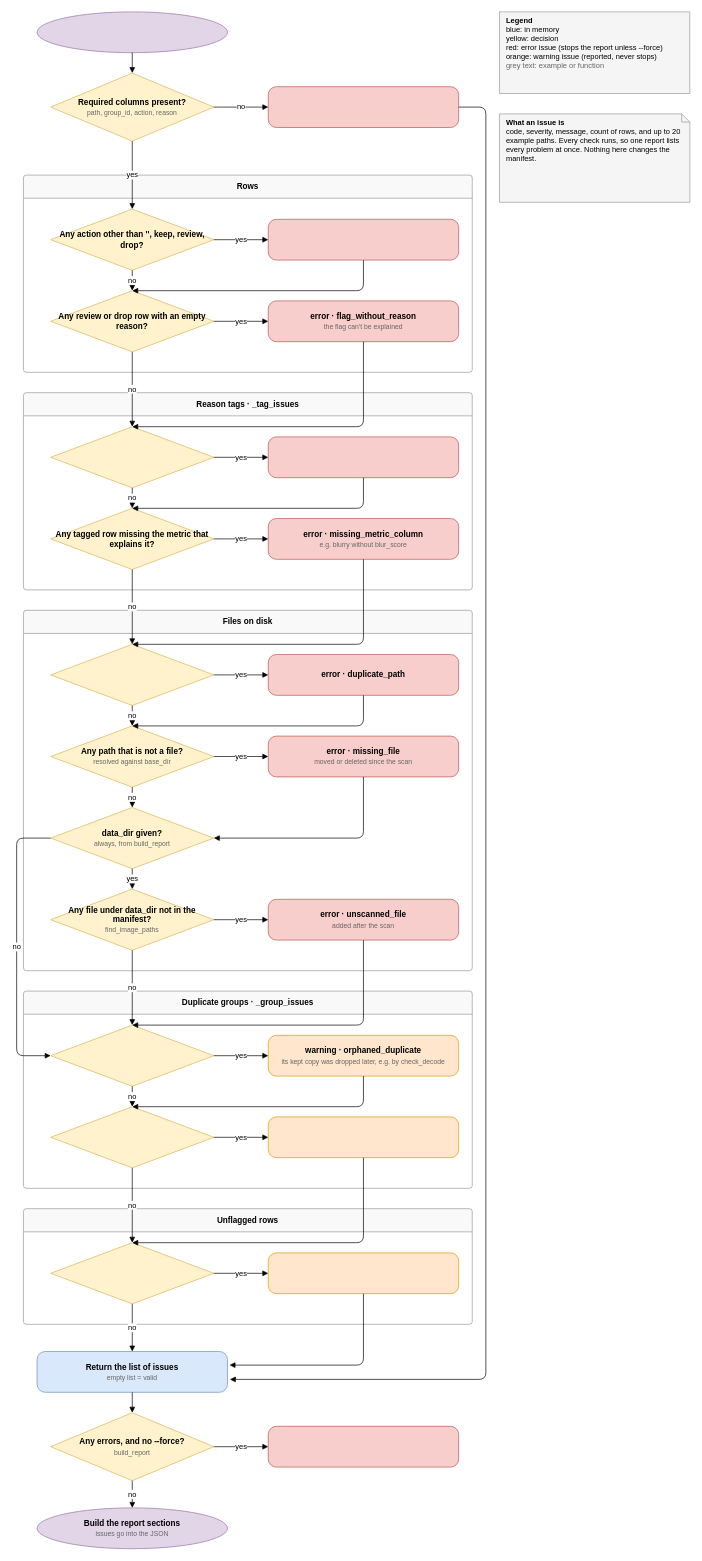
The diagram is 702 pixels wide and 1561 high, and some of its shapes have lost their labels. Each missing label, with the centre of its shape:
Any duplicate dropped with no copy left in its group?: the point at 132,1055
Any group with more than one unflagged member?: the point at 132,1137
Any path in more than one row?: the point at 132,675
Any tag missing from the catalog? src/report/reasons.py: the point at 132,457
Any unflagged row that still has a reason? '' or keep: the point at 132,1273
error · unknown_action e.g. 'delete': the point at 363,239
error · unknown_tag e.g. a typo, or a new check: the point at 363,457
Return only missing_columns the other checks need these columns: the point at 363,107
Stop: ManifestValidationError run_report prints them, exit 1: the point at 363,1446
validate_manifest(manifest, data_dir, base_dir) build_report, before any section: the point at 131,32
warning · ok_with_reason a flag may have been lost: the point at 363,1273
warning · unresolved_group grouped, but no keep step ran: the point at 363,1137
